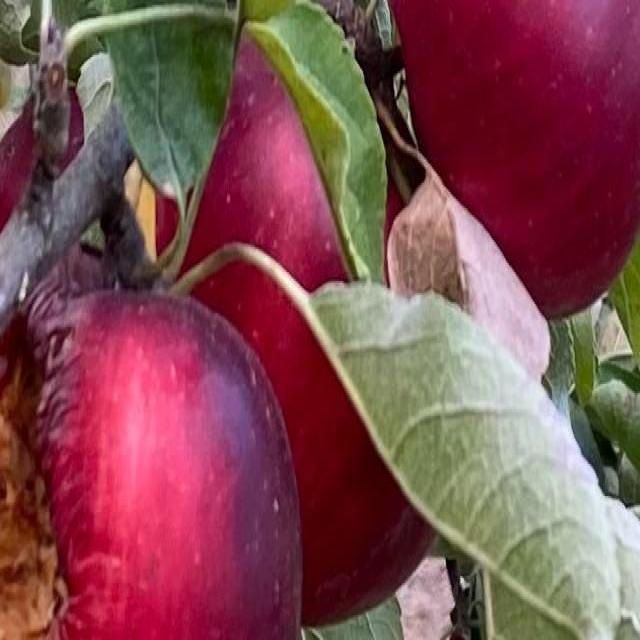Rotten Apple: (154, 27, 437, 628), (0, 290, 304, 640), (393, 0, 640, 316)
